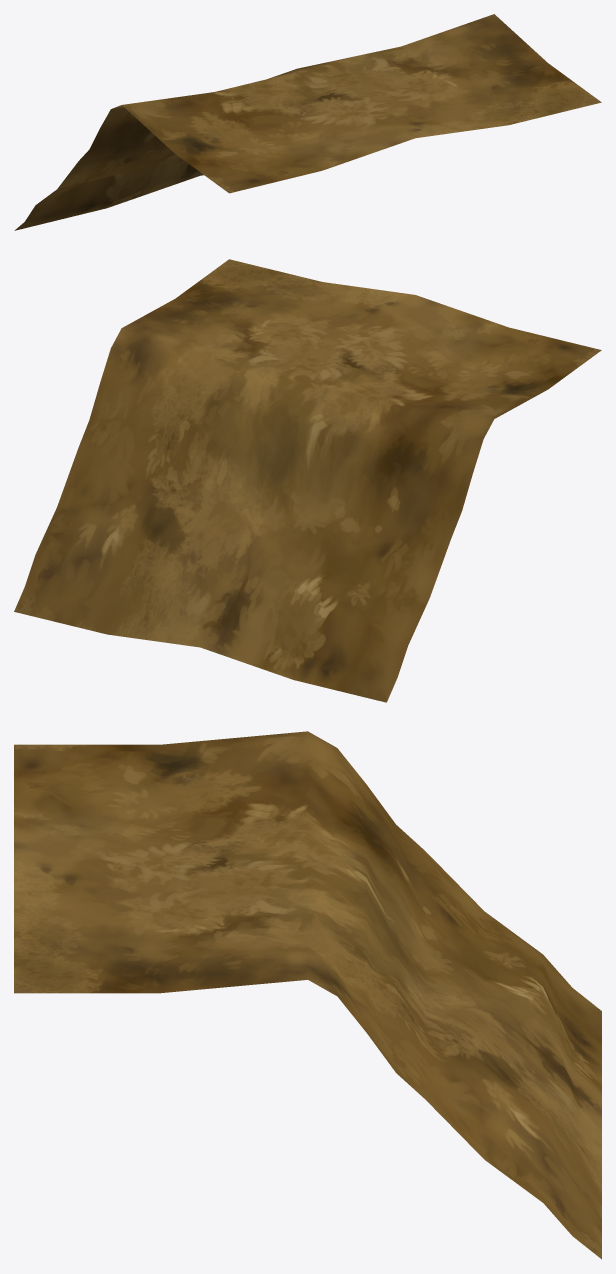
Rendered from Levelled_Slope_003.fbx.
The picture shows the model from 3 angles, top to bottom: view 1: azimuth 30°, elevation 25°; view 2: azimuth 150°, elevation 25°; view 3: azimuth 270°, elevation 25°; orthographic projection. The views are drawn at different scales.
Visible parts, largest first — view 1: Levelled_Slope_003; view 2: Levelled_Slope_003; view 3: Levelled_Slope_003.
Boxes of the visible parts, x1,y1,x2,y2 form: Levelled_Slope_003: (14, 14, 601, 230); Levelled_Slope_003: (14, 259, 601, 702); Levelled_Slope_003: (14, 731, 601, 1259).
Size of the model in its own units: 10 by 5.25 by 10.
1 material, 1 textured.
